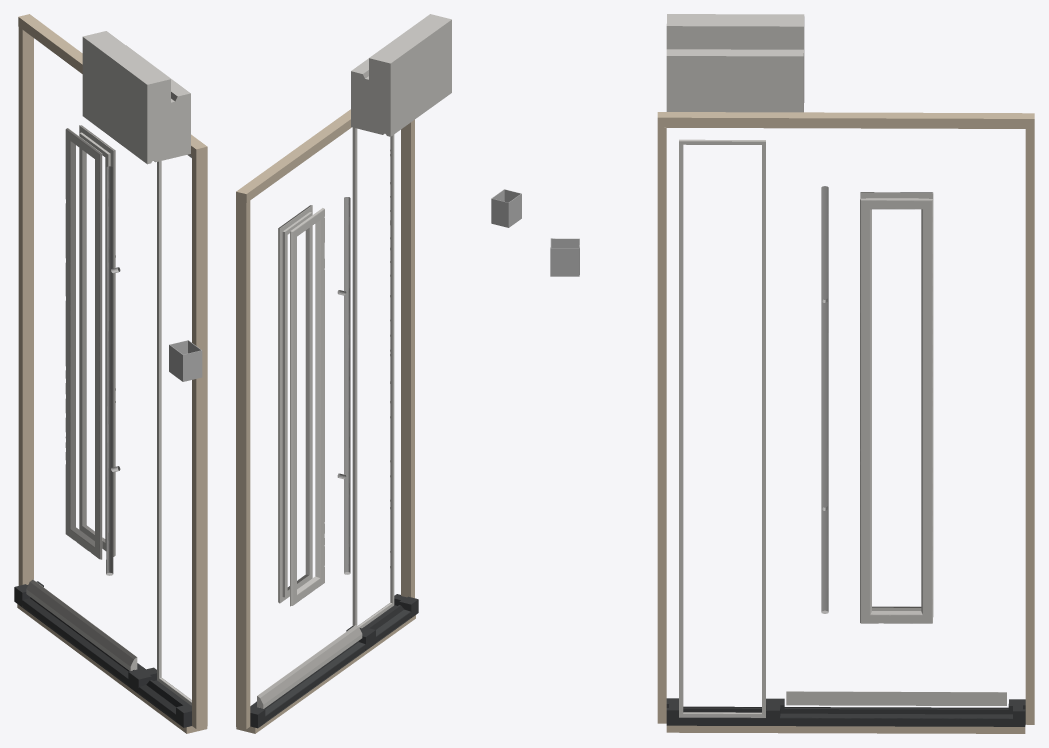
3 views of the same model, side by side, from view 1: azimuth 30°, elevation 25°; view 2: azimuth 150°, elevation 25°; view 3: azimuth 270°, elevation 25° (orthographic). The views are drawn at different scales.
Bounding box in the file's own units: 0.3983 × 3.05 × 1.94.
